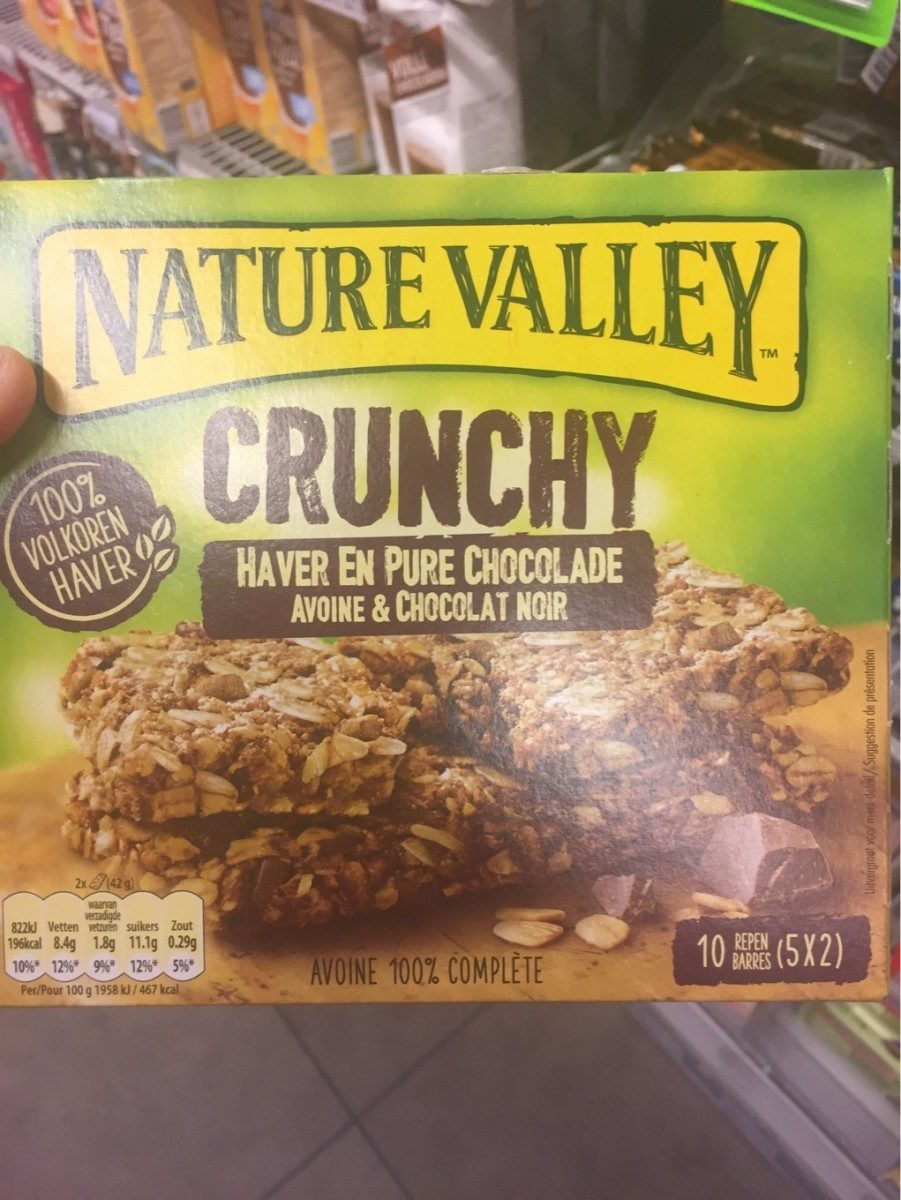Crunchy: (45, 60, 856, 1140)
